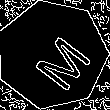M_NW: (17, 21, 87, 89)
